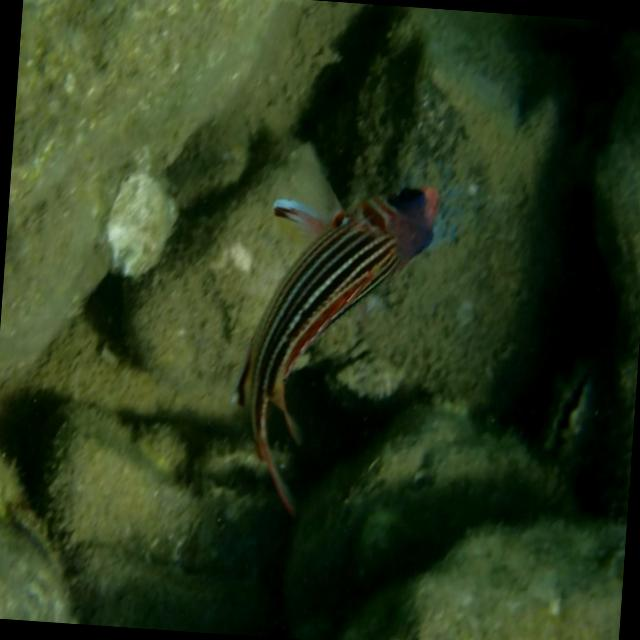Asker Baligi: (207, 157, 453, 538)
